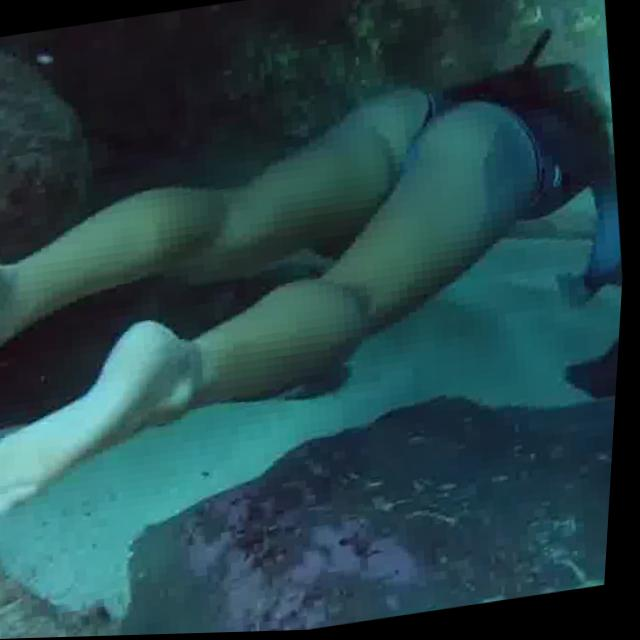human: (0, 14, 639, 523)
